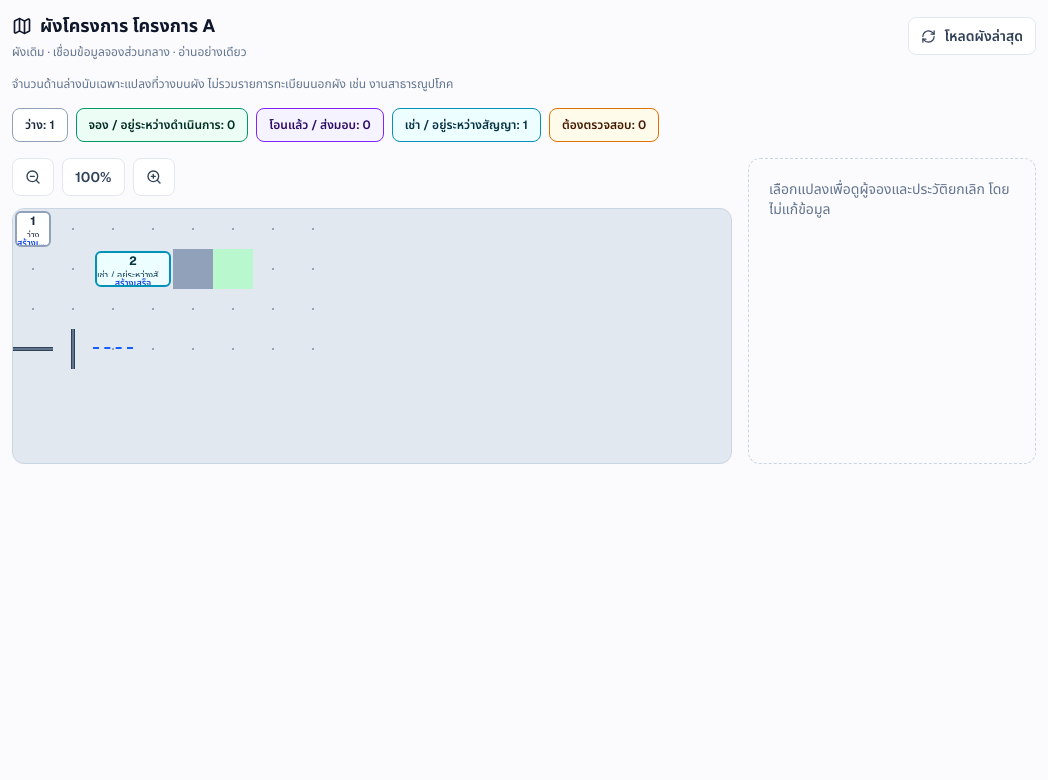
Test: canonical rental links on read-only map › shows verified current rental and exact customer/project/contract link without legacy lead
The image size is (1048, 780).
Click the button with aria-label "แปลง 2 — เช่า / อยู่ระหว่างสัญญา".
click(133, 269)  # box [93,249,173,289]
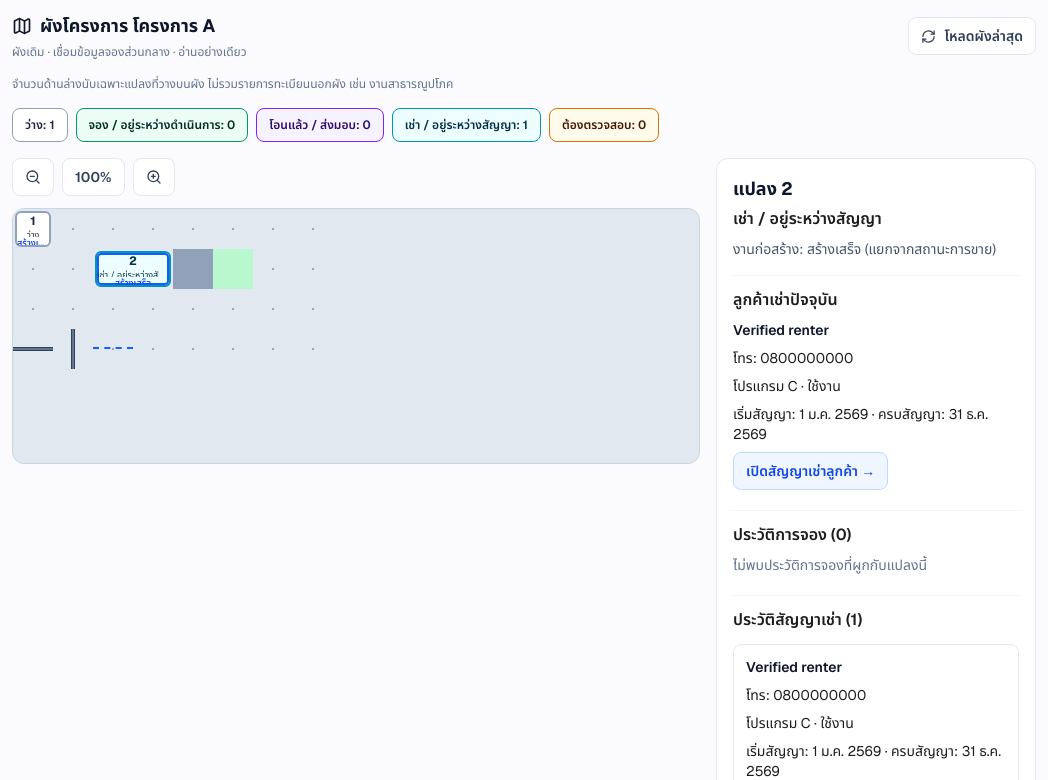
Expected: the list item "เช่า / อยู่ระหว่างสัญญา: 1" is shown, [392,108,541,142]
Now the text "Verified renter" below "ลูกค้าเช่าปัจจุบัน" is shown, box [733,321,829,339]
Now the text "โปรแกรม C · ใช้งาน" below "ลูกค้าเช่าปัจจุบัน" is shown, box [733,377,841,395]
